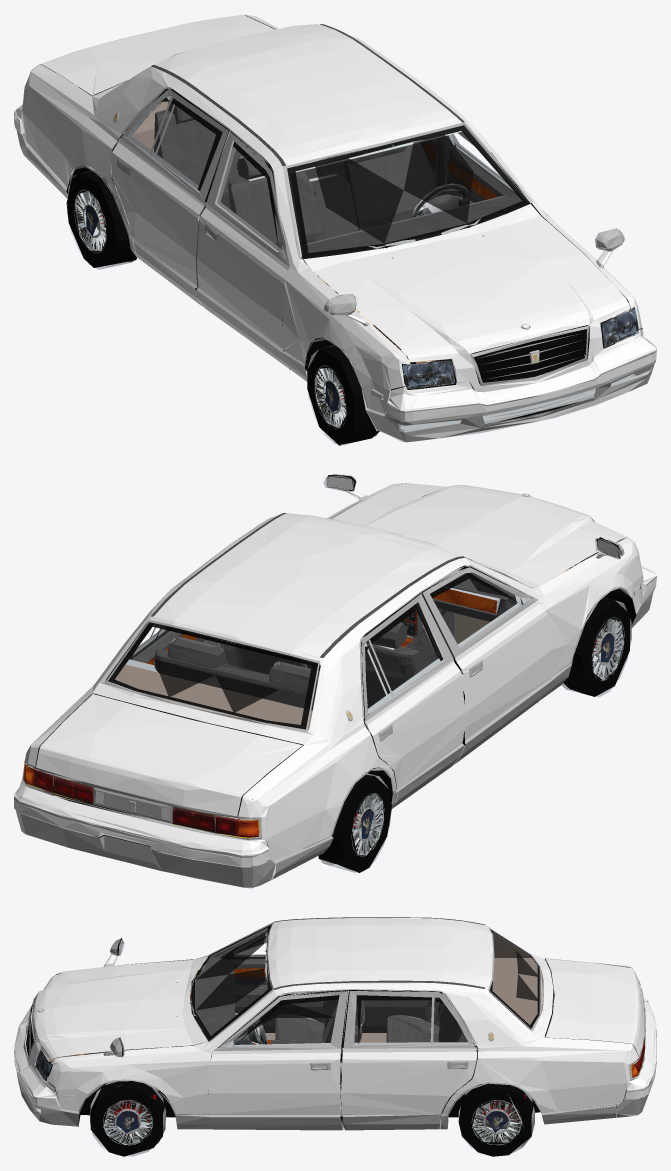
File: century_1997.lod0.glb
3 renders of one model, top to bottom at view 1: azimuth 30°, elevation 25°; view 2: azimuth 150°, elevation 25°; view 3: azimuth 270°, elevation 25°, orthographic. The views are drawn at different scales.
Parts seen in each view (by area): view 1: Material2 (×3), Material3 (×10); view 2: Material2 (×3), Material3 (×9); view 3: Material2 (×3), Material3 (×8).
Boxes of the visible parts, x1,y1,x2,y2 form: Material2 (×3): (14,14,656,445); Material3 (×10): (14,17,656,445); Material2 (×3): (14,474,656,888); Material3 (×9): (14,474,656,887); Material2 (×3): (14,918,656,1156); Material3 (×8): (14,917,656,1156).
Size of the model in its own units: 2.68 by 1.78 by 6.52.
26 materials, 8 textured.
